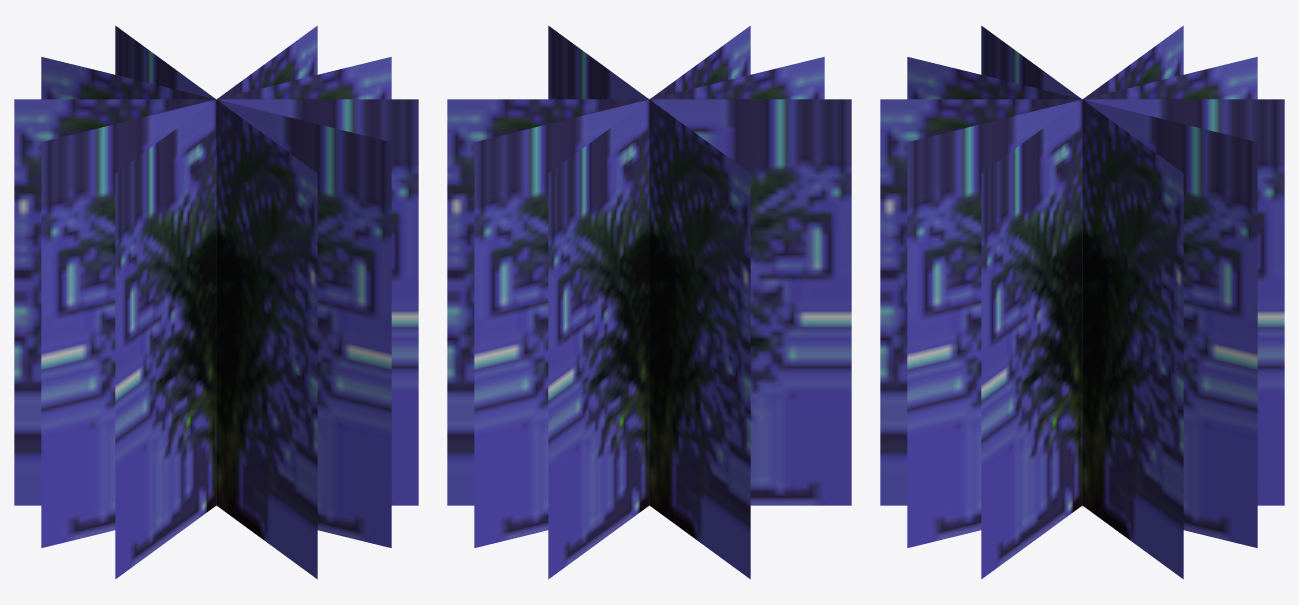
File: kust.fbx
3 views of the same model, side by side, from view 1: azimuth 30°, elevation 25°; view 2: azimuth 150°, elevation 25°; view 3: azimuth 270°, elevation 25° (orthographic).
Parts seen in each view (by area): view 1: kust.001; view 2: kust.001; view 3: kust.001.
Boxes of the visible parts, <box> form: kust.001: <box>14,25,418,579</box>; kust.001: <box>447,25,851,579</box>; kust.001: <box>880,25,1284,579</box>.
Bounding box in the file's own units: 62.06 × 68.75 × 62.06.
1 material, 1 textured.
